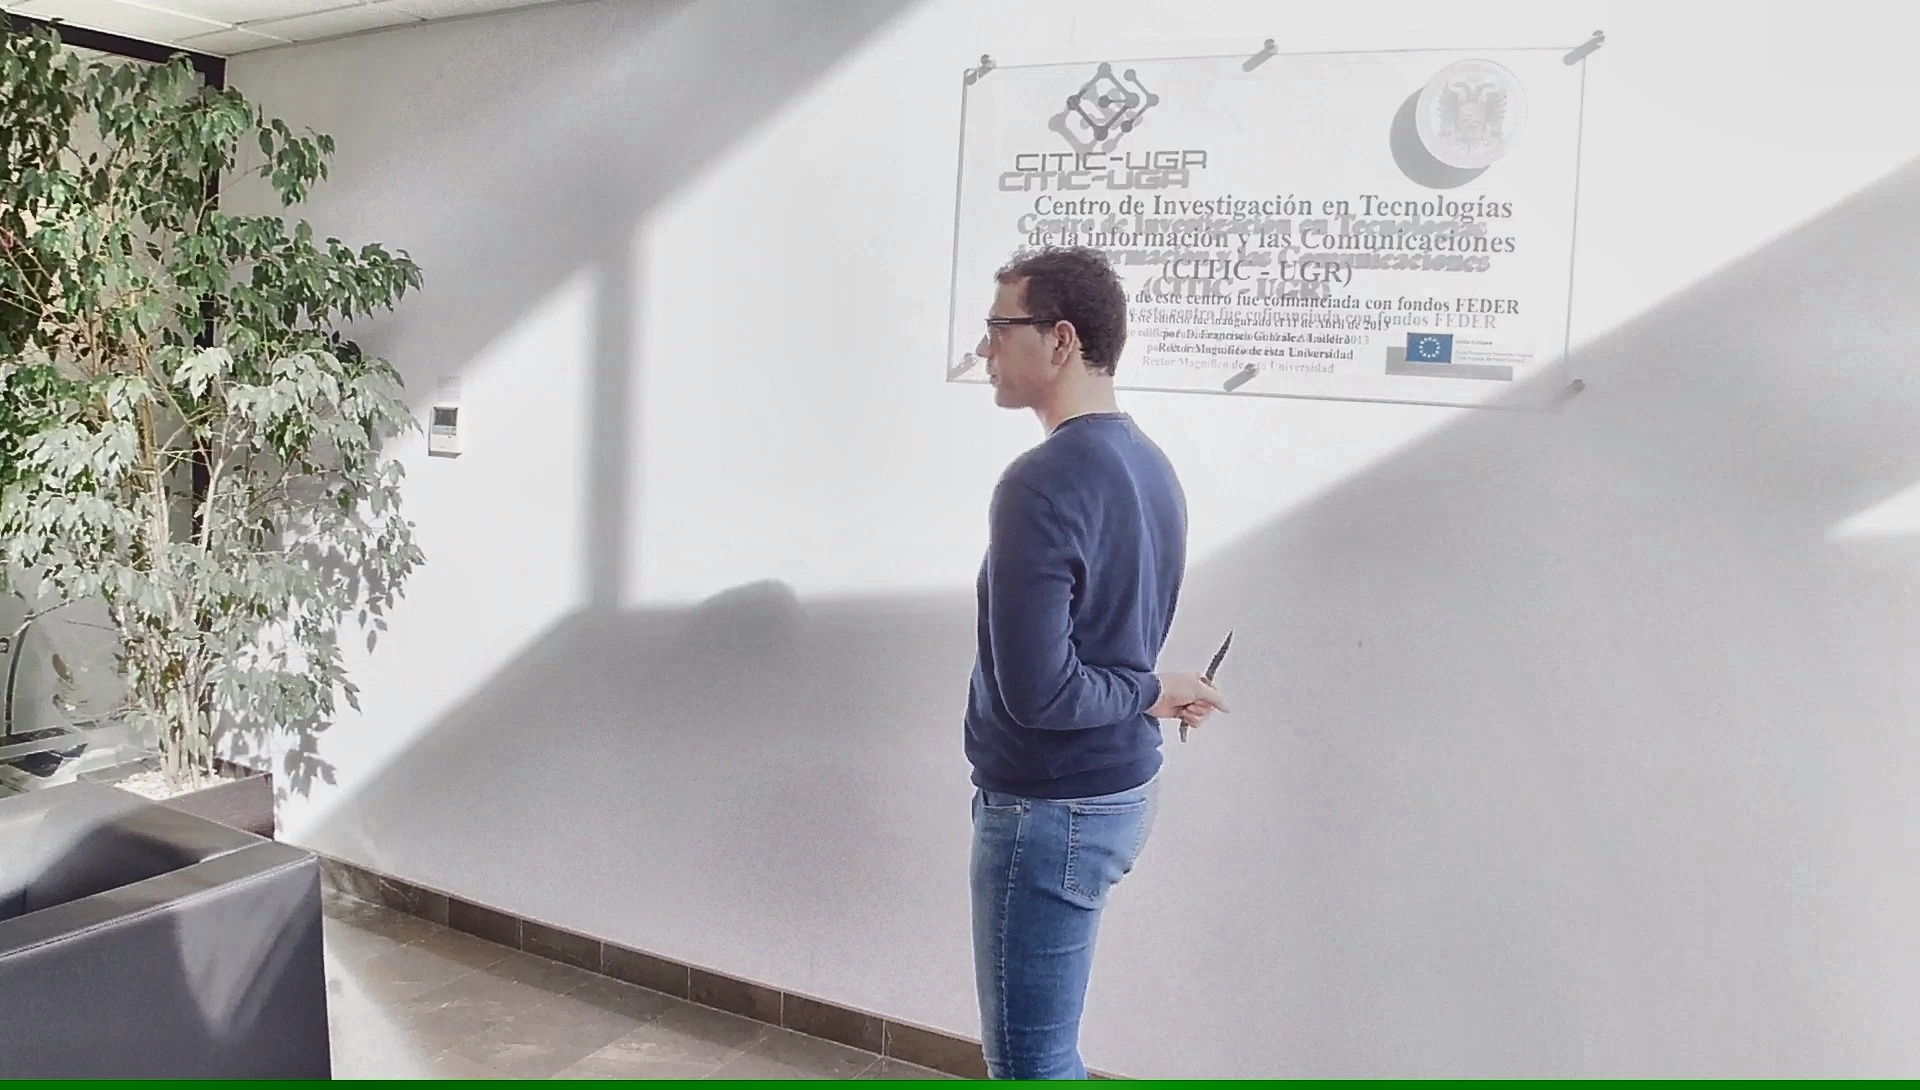knife: (1174, 619, 1241, 747)
